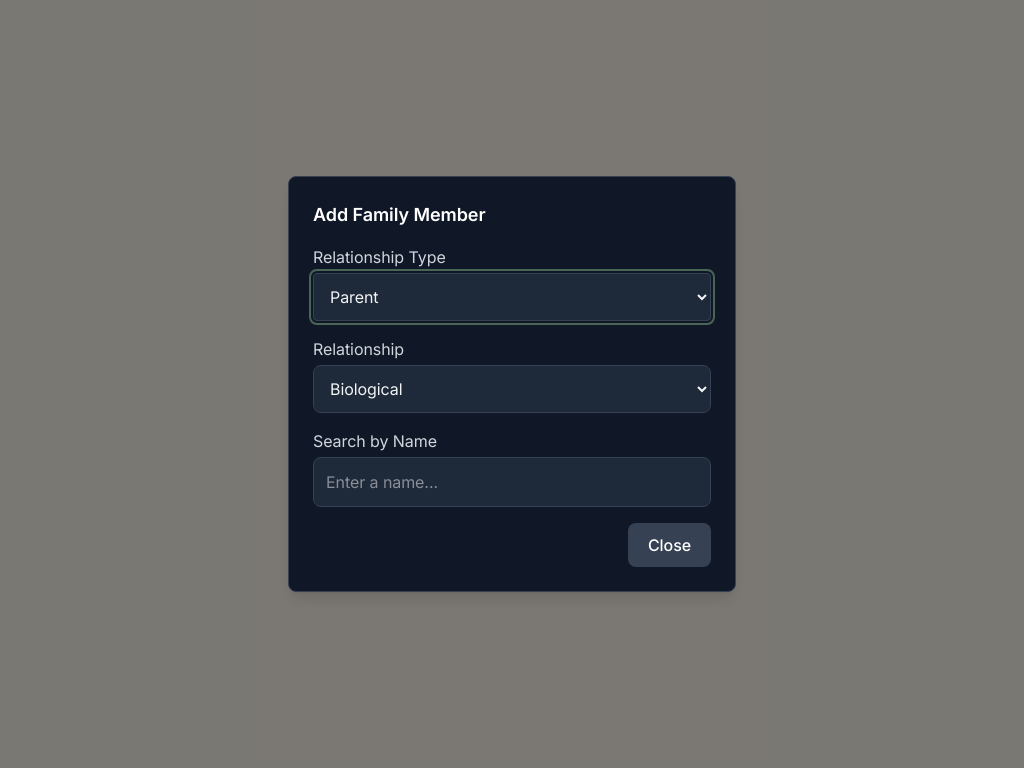
Scenario: AddMemberModal error handling › reports a partial-success message when the created person cannot be linked
The image size is (1024, 768).
Type "Grace Hopper" into the field with placeholder "Enter a name...".
click(512, 482); type("Grace Hopper")  # box [313, 457, 711, 507]
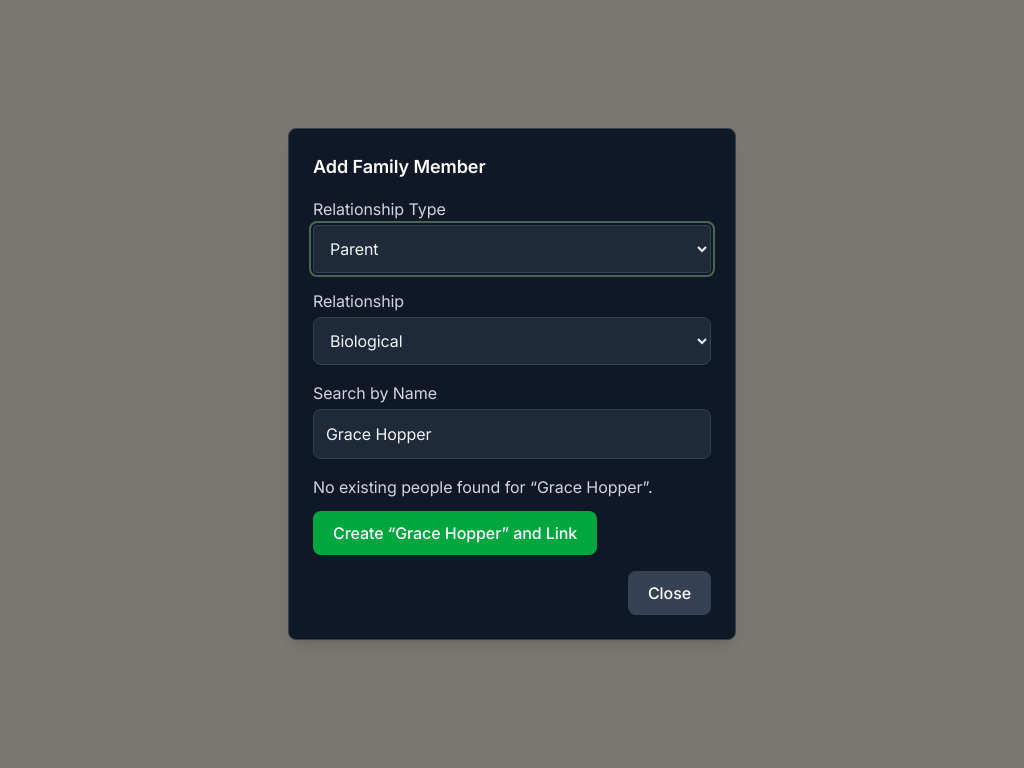
Click the button "Create “Grace Hopper” and Link".
click(455, 533)  # box [313, 511, 597, 555]
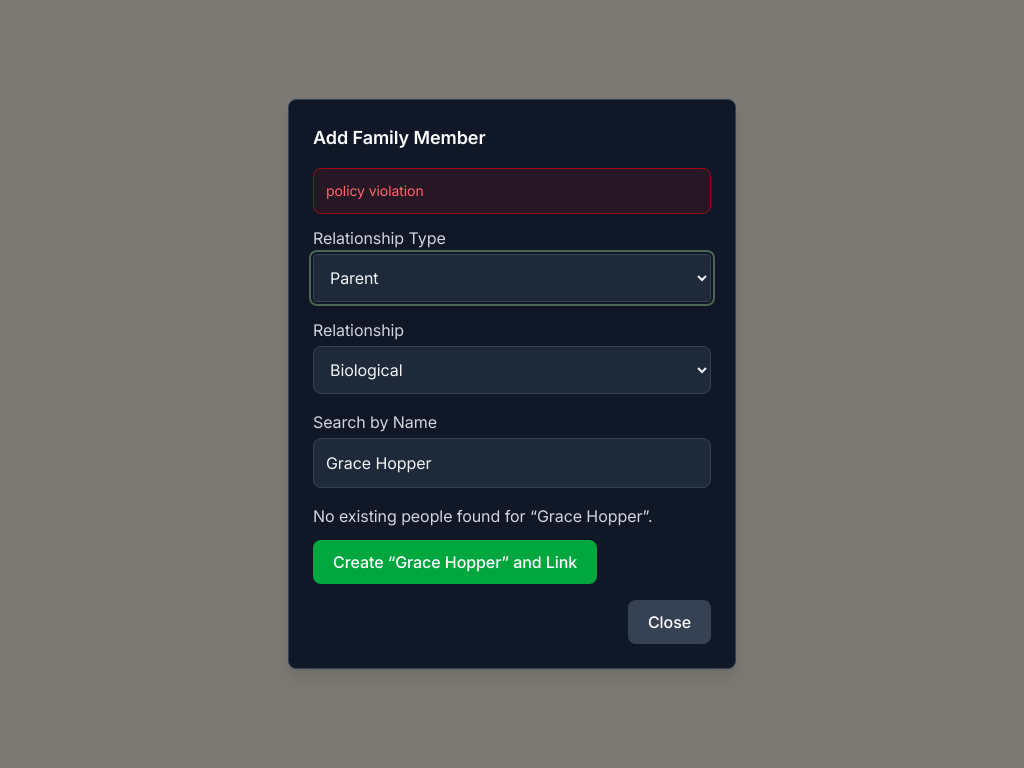
Expected: the message reads "policy violation", [326, 182, 424, 199]
